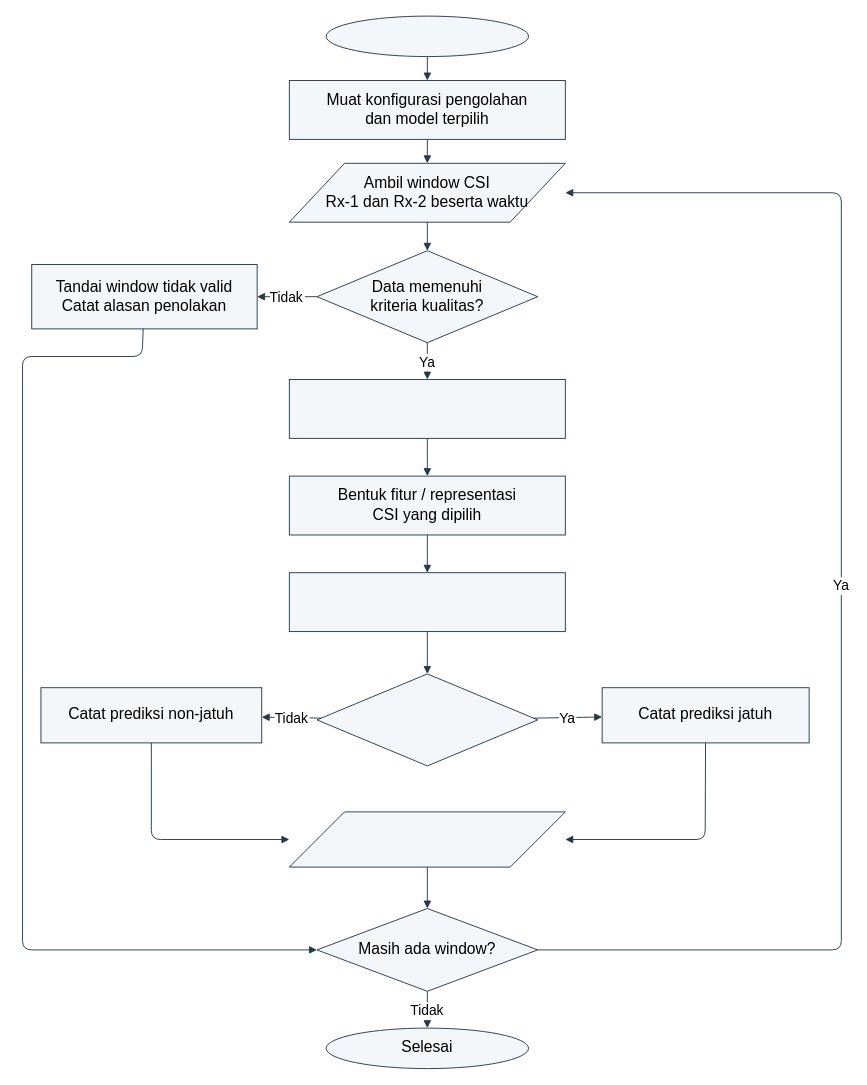
The diagram is 867 pixels wide and 1085 high, and some of its shapes have lost their labels. The shapes that lost their labels are listed below. From the top down, each one's centre as x and y in pixels, then its label:
the point at 427,36: Mulai
the point at 426,408: Prapemrosesan CSI sesuai konfigurasi
the point at 426,602: Prediksi menggunakan model klasifikasi
the point at 427,719: Kelas prediksi jatuh?
the point at 426,839: Simpan prediksi dan waktu
